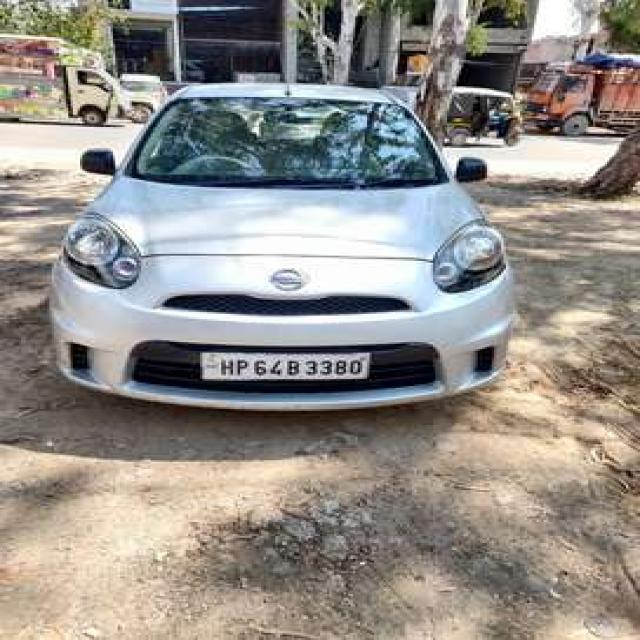Plate: (199, 349, 368, 379)
